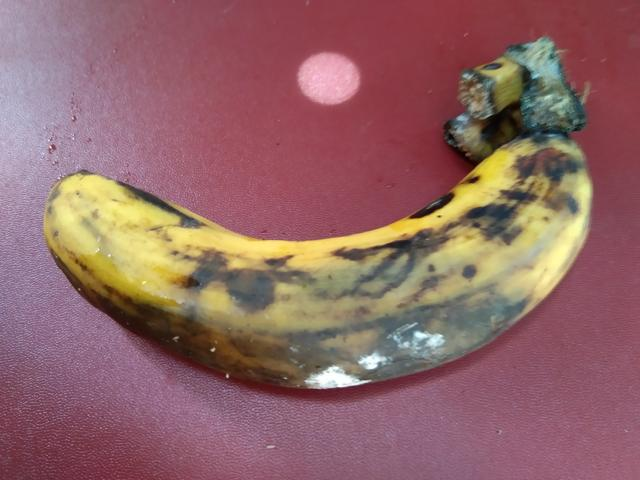rotten: (11, 119, 619, 421)
